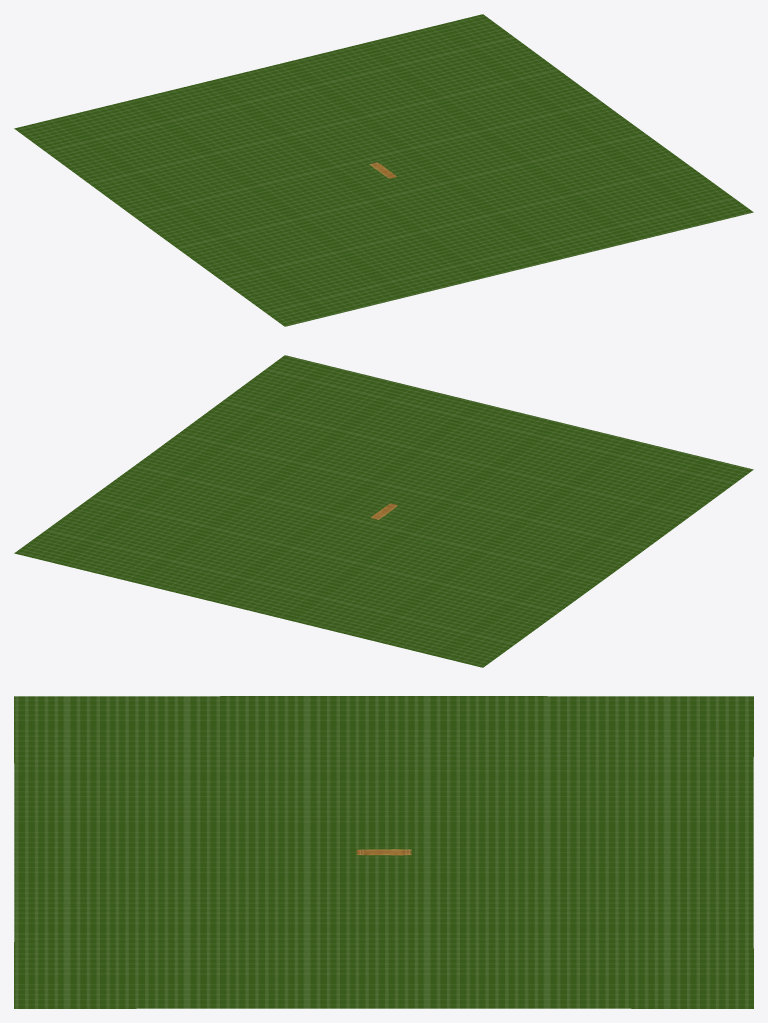
File: Pitch.fbx
3 renders of one model, top to bottom at view 1: azimuth 30°, elevation 25°; view 2: azimuth 150°, elevation 25°; view 3: azimuth 270°, elevation 25°, orthographic. The views are drawn at different scales.
Parts seen in each view (by area): view 1: pitch; view 2: pitch; view 3: pitch.
Boxes of the visible parts, x1,y1,x2,y2 form: pitch: (14, 14, 753, 326); pitch: (14, 355, 753, 667); pitch: (14, 696, 753, 1008).
Bounding box in the file's own units: 25110 × 0.00676 × 25090.
